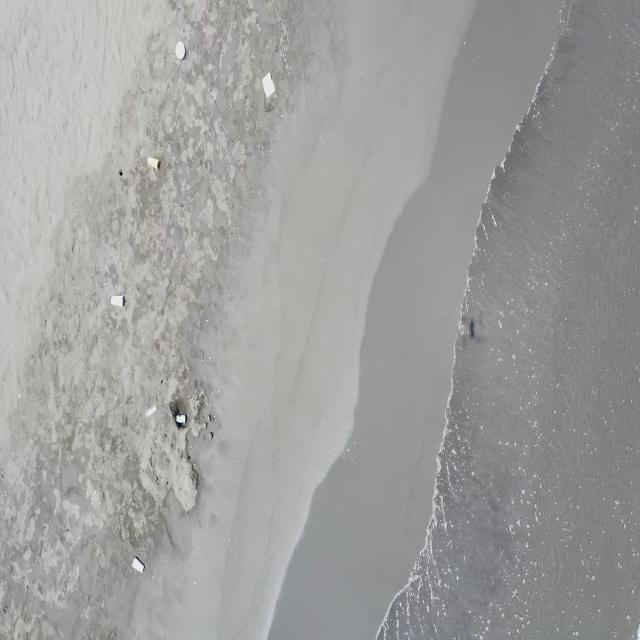take-away-containers: (262, 72, 275, 98), (176, 40, 186, 61)
takeaway-cup: (132, 556, 144, 572), (145, 403, 157, 419), (111, 294, 124, 308), (147, 156, 160, 170), (176, 413, 187, 425)
